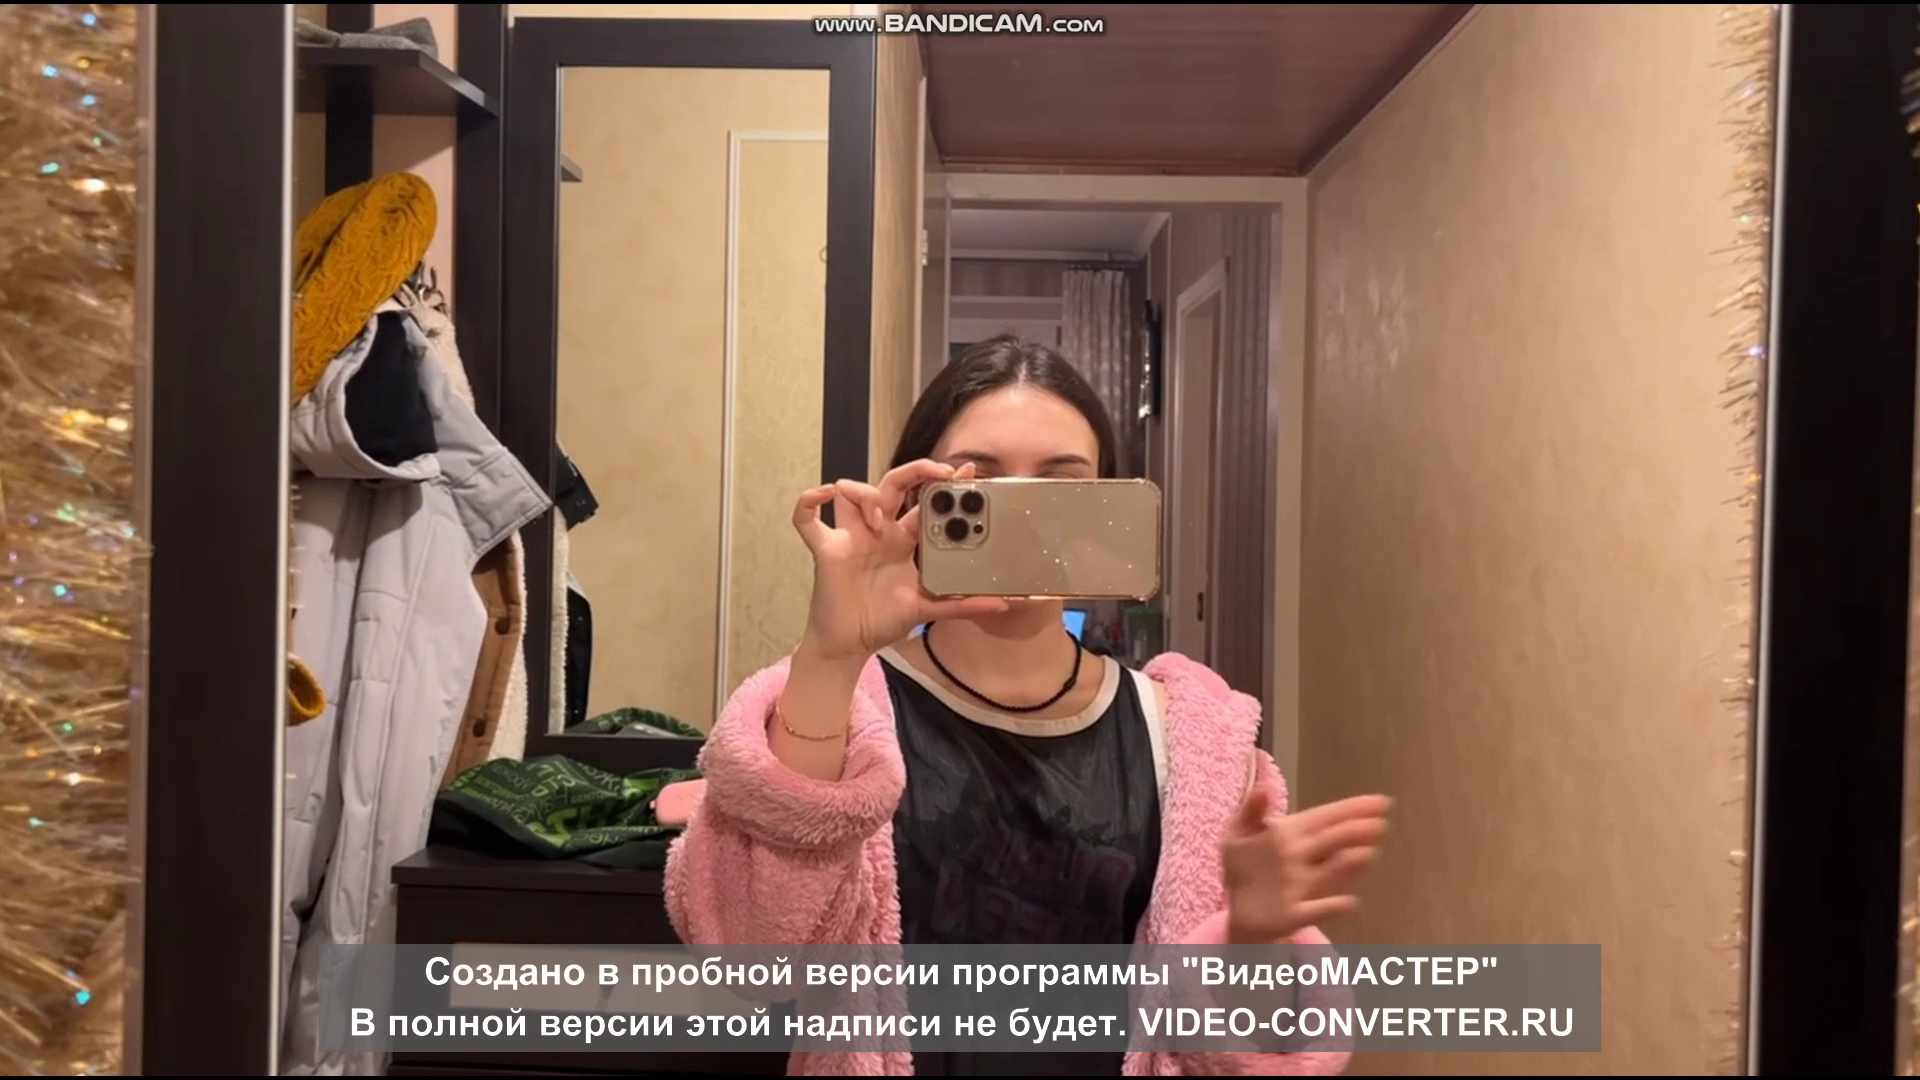Ладонь: (1216, 778, 1389, 932)
